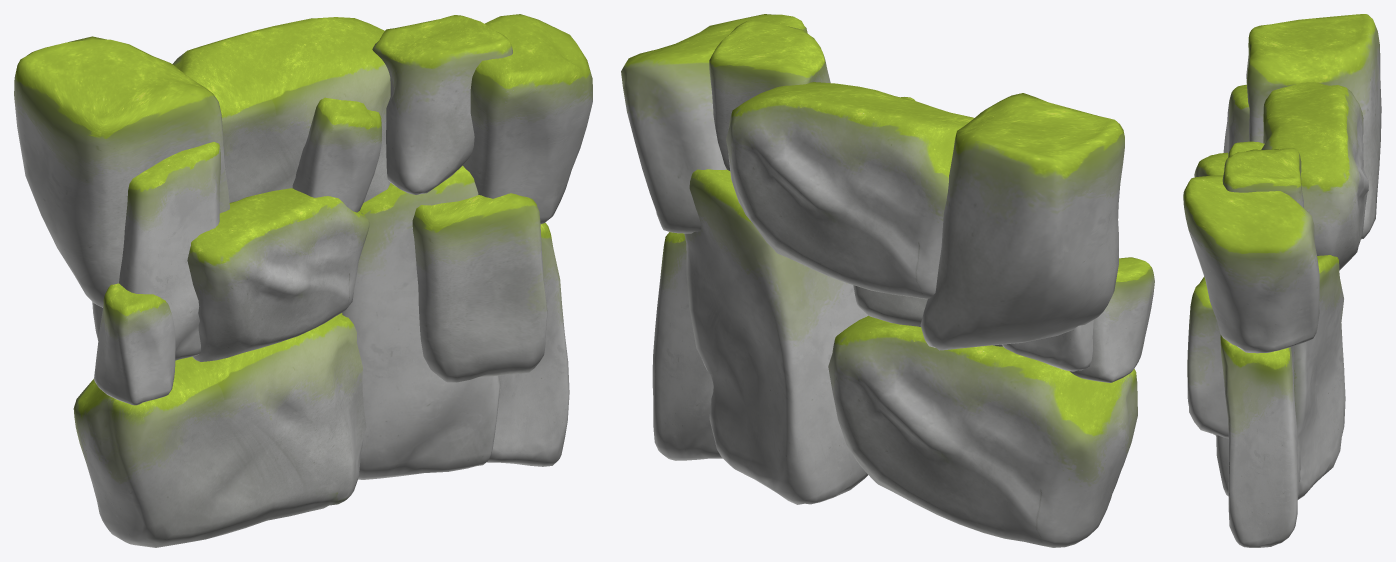
File: SM_cliff_04.fbx
3 renders of one model, left to right at view 1: azimuth 30°, elevation 25°; view 2: azimuth 150°, elevation 25°; view 3: azimuth 270°, elevation 25°, orthographic. The views are drawn at different scales.
Visible parts, largest first — view 1: Group64903; view 2: Group64903; view 3: Group64903.
Part boxes in pixels (<box>): Group64903: <box>14,14,592,547</box>; Group64903: <box>621,14,1154,547</box>; Group64903: <box>1183,14,1381,547</box>.
Size of the model in its own units: 383 by 334 by 165.
